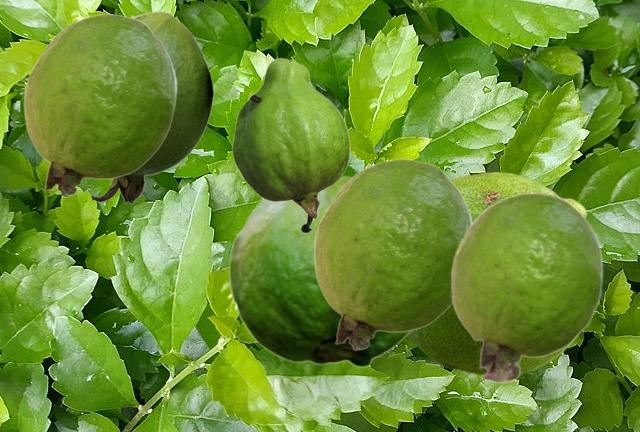guava: (407, 171, 590, 375), (228, 175, 413, 367), (313, 158, 472, 350), (450, 191, 603, 383), (23, 13, 176, 196), (88, 11, 213, 203), (231, 57, 349, 232)
